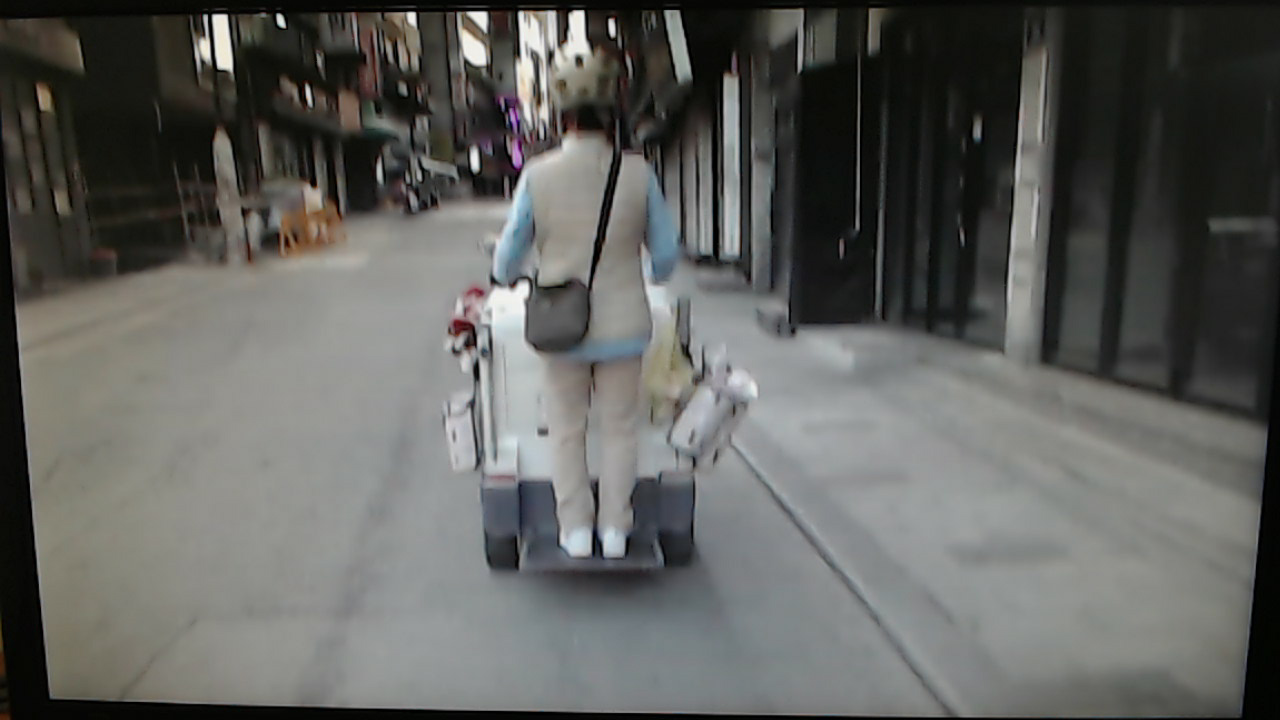Yakurut: (490, 43, 699, 584)
